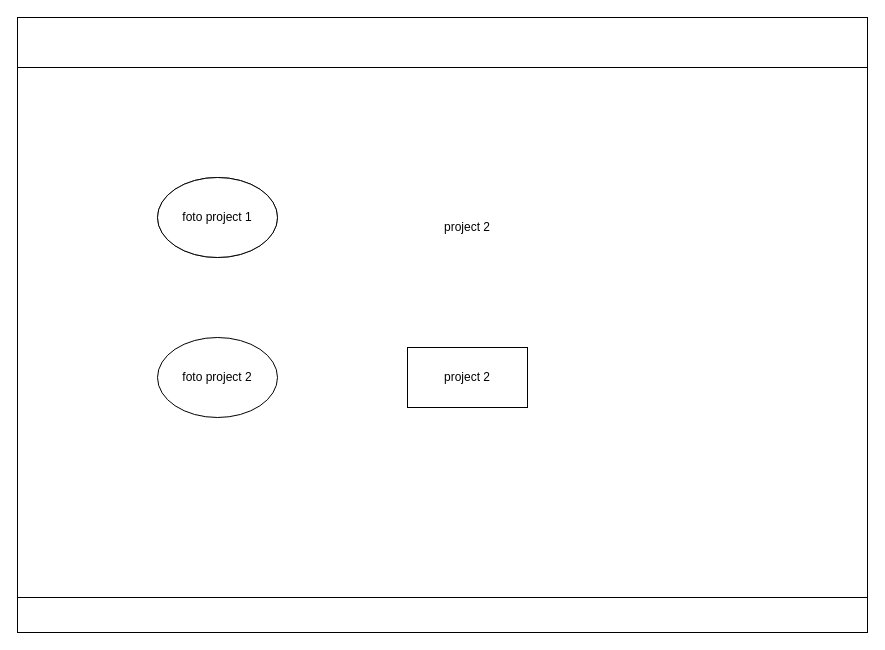
Image size: 885x650. Some labels were removed from this diagram. The centre of each missing label's shape, as x and y in pixels:
Footer, (school naam of eigen naam): the point at 442,614
nav bar: the point at 442,42
